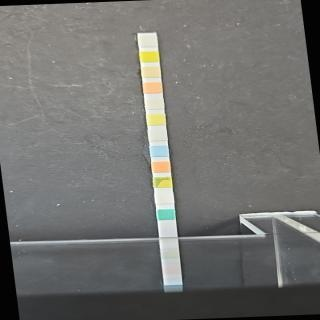mark: (138, 36, 158, 48), (146, 113, 166, 125), (151, 160, 171, 172), (155, 193, 175, 205), (141, 66, 160, 78), (145, 98, 164, 110), (140, 51, 158, 63), (149, 129, 167, 141), (154, 176, 172, 188), (143, 82, 162, 93), (150, 146, 168, 157), (157, 209, 175, 220)
